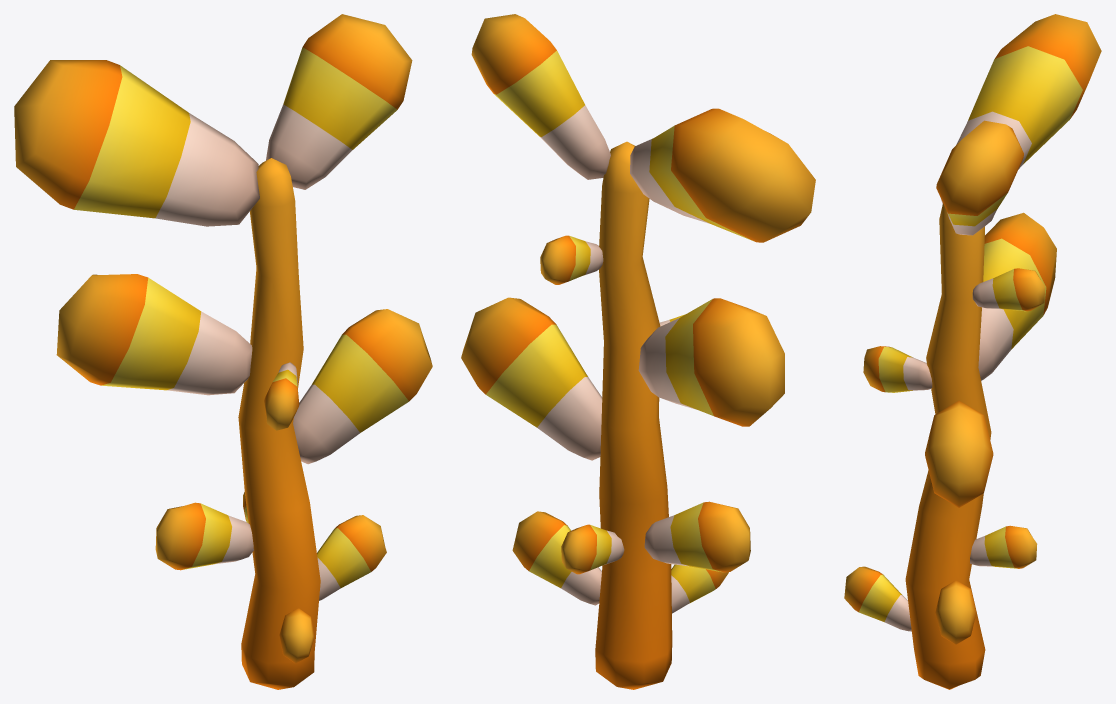
Rendered from wp_noPot_16.fbx.
3 renders of one model, left to right at view 1: azimuth 30°, elevation 25°; view 2: azimuth 150°, elevation 25°; view 3: azimuth 270°, elevation 25°, orthographic. The views are drawn at different scales.
Visible parts, largest first — view 1: w_pl16.003; view 2: w_pl16.003; view 3: w_pl16.003.
Boxes of the visible parts, x1,y1,x2,y2 form: w_pl16.003: (14,14,432,689); w_pl16.003: (461,14,815,689); w_pl16.003: (844,14,1101,689).
Size of the model in its own units: 92.52 by 150 by 57.33.
